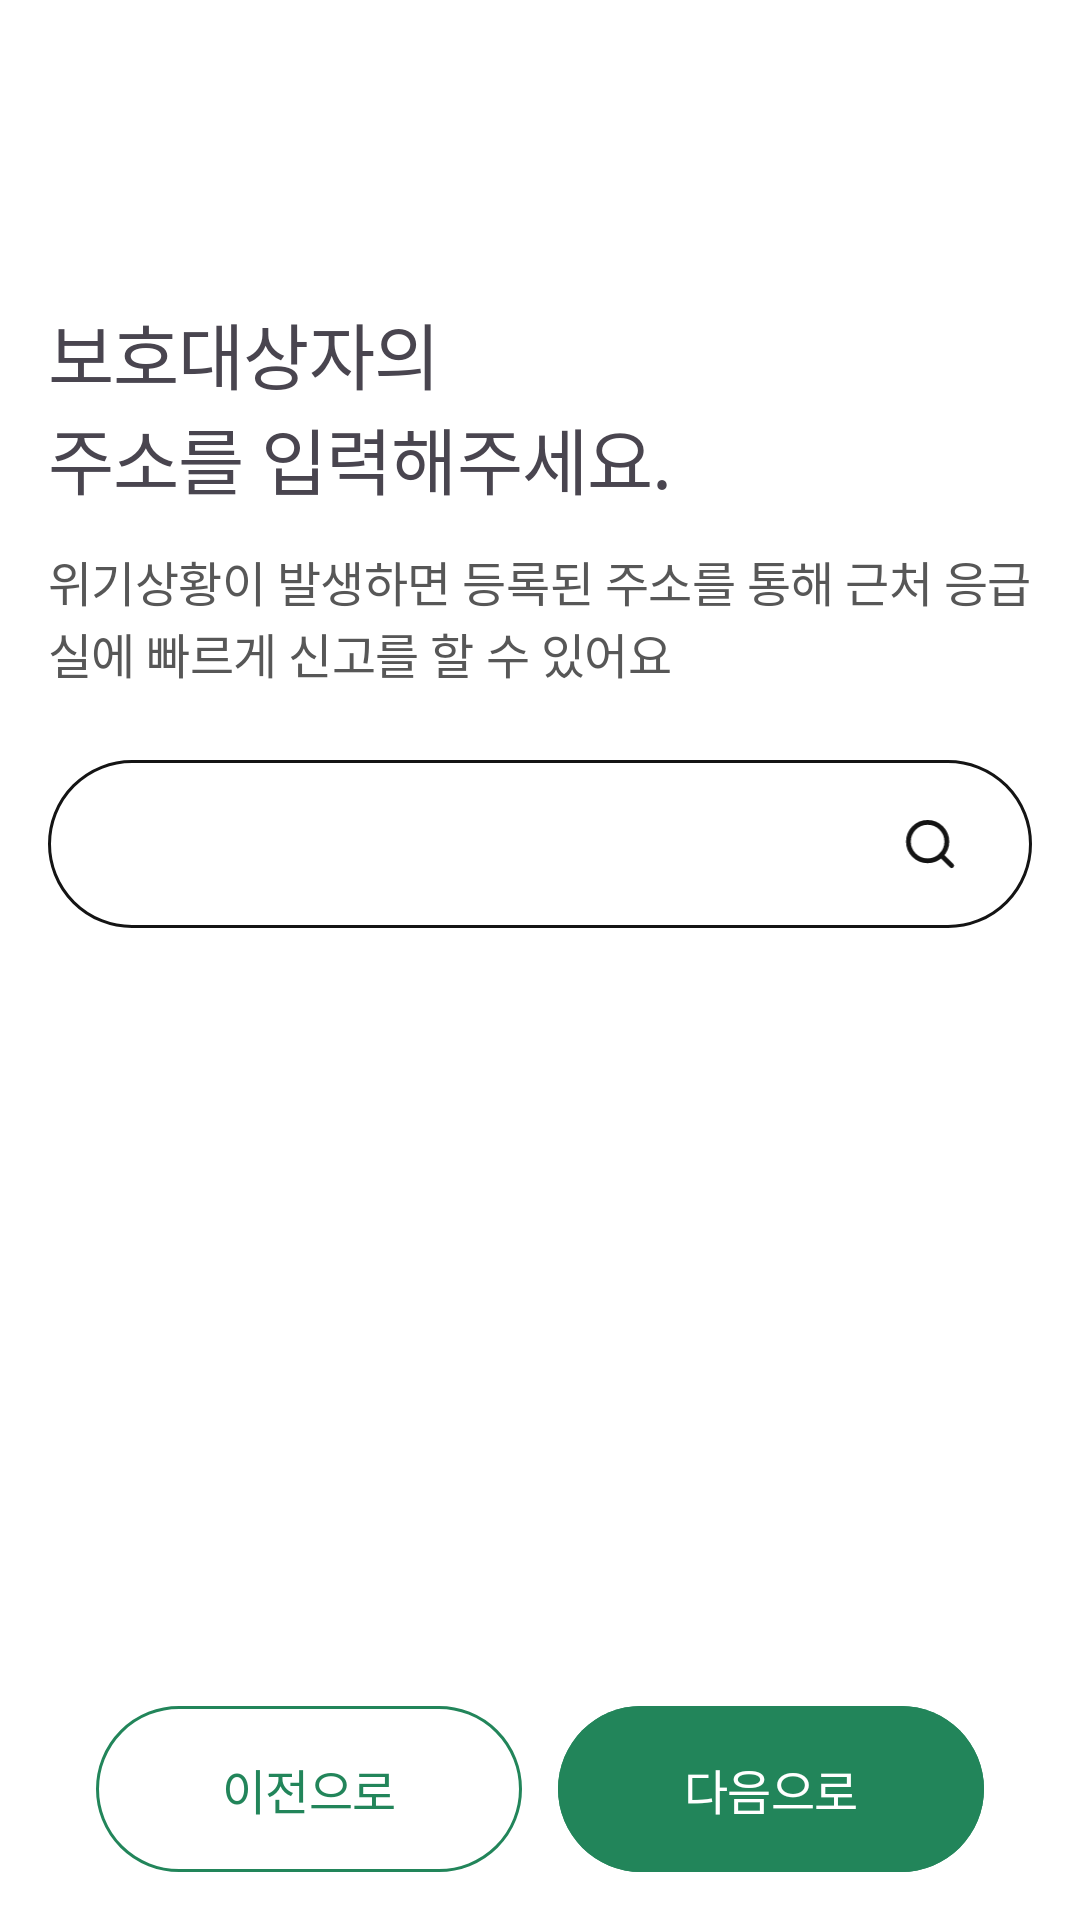

Icons on this 1080*1920 Android screen, each with the point to tap as point (x, y):
검색 버튼 이미지입니다: point (930, 844)
